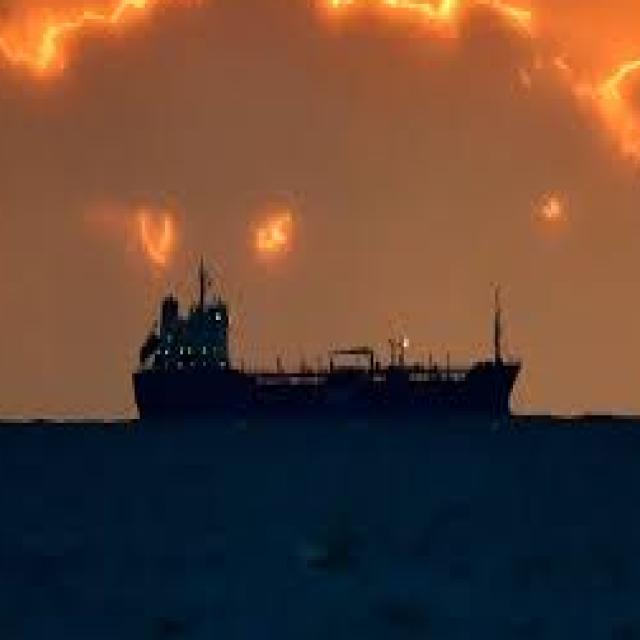cargoship: (134, 252, 521, 429)
